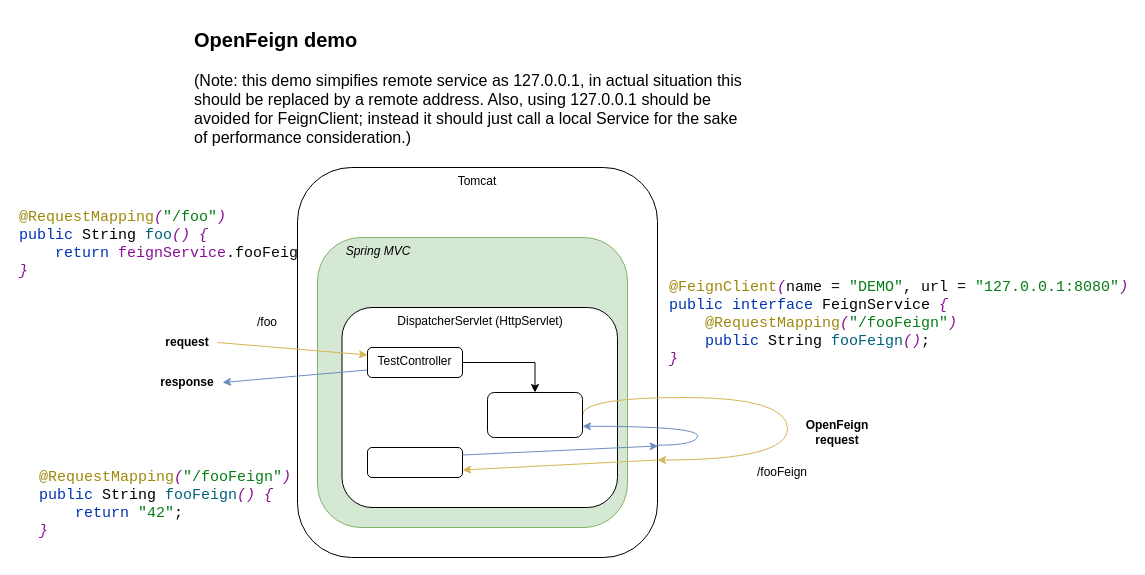
Image size: 1145x575. Some labels were removed from this diagram. Each missing label, with the centre of its shape:
"FeignController" goes at point 414,462.
"FeignService (@FeignClient)" goes at point 534,415.
